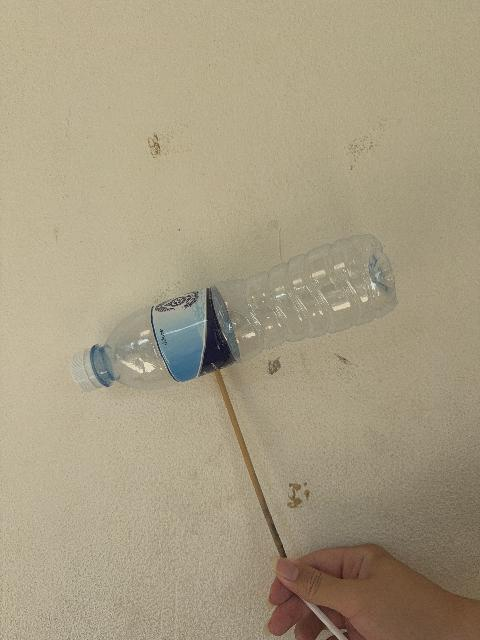bottle: (71, 236, 396, 391)
